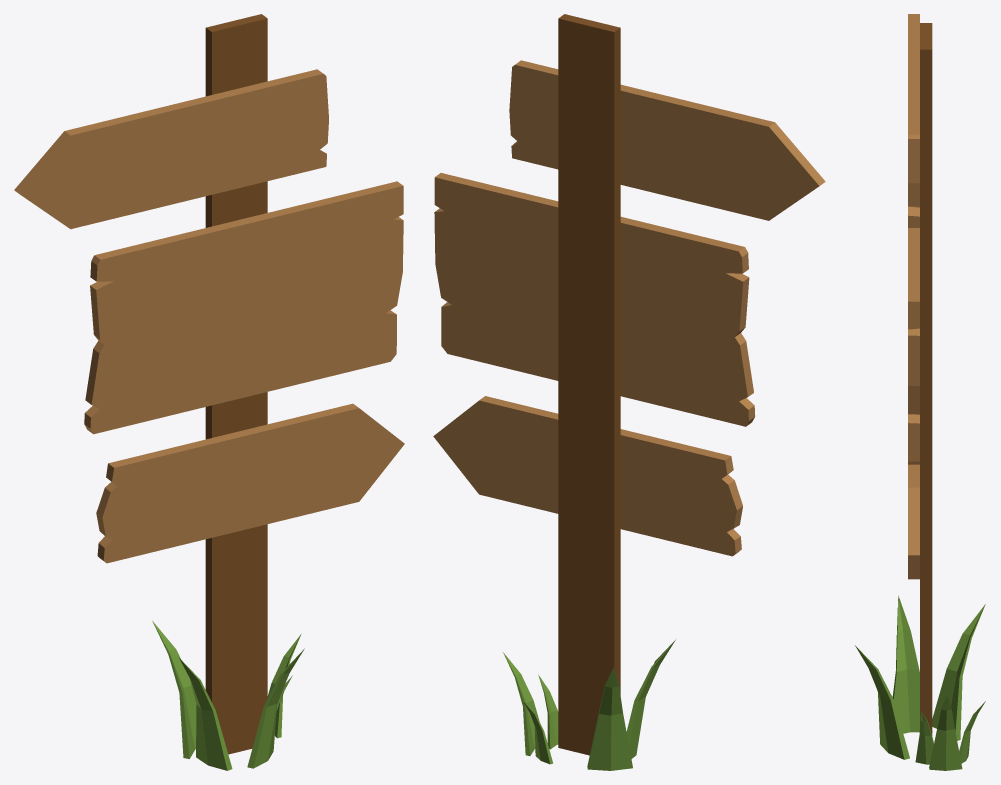
File: Wooden Sign-p4TB5SdPsG.glb
3 views of the same model, side by side, from view 1: azimuth 30°, elevation 25°; view 2: azimuth 150°, elevation 25°; view 3: azimuth 270°, elevation 25° (orthographic). The views are drawn at different scales.
Parts seen in each view (by area): view 1: Wooden Sign-p4TB5SdPsG; view 2: Wooden Sign-p4TB5SdPsG; view 3: Wooden Sign-p4TB5SdPsG.
Boxes of the visible parts, x1,y1,x2,y2 form: Wooden Sign-p4TB5SdPsG: [14, 14, 404, 770]; Wooden Sign-p4TB5SdPsG: [433, 14, 825, 770]; Wooden Sign-p4TB5SdPsG: [855, 14, 985, 770].
Bounding box in the file's own units: 1.1 × 1.98 × 0.3337.
